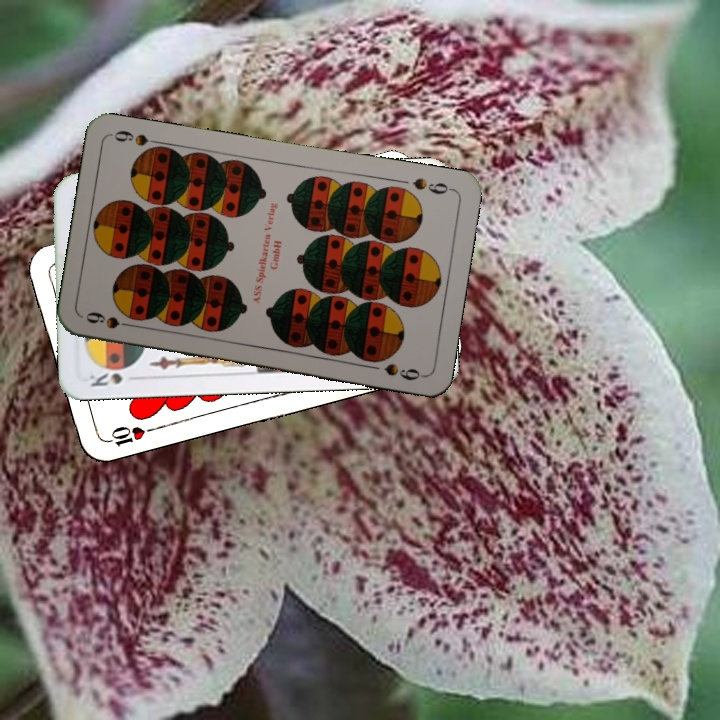H10: (100, 422, 158, 449)
S9: (81, 307, 140, 331), (409, 173, 456, 197)
SK: (85, 368, 125, 389)
